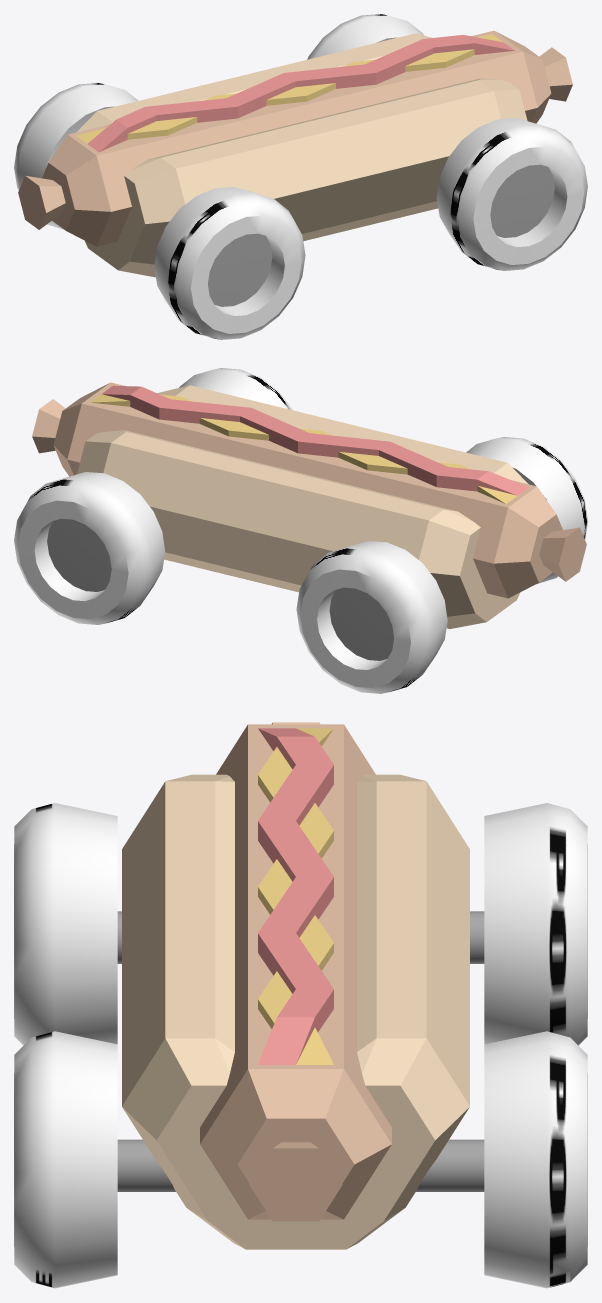
File: hot_dog.fbx
3 views of the same model, one above another, from view 1: azimuth 30°, elevation 25°; view 2: azimuth 150°, elevation 25°; view 3: azimuth 270°, elevation 25° (orthographic). The views are drawn at different scales.
Visible parts, largest first — view 1: polySurface74; view 2: polySurface74; view 3: polySurface74.
Part boxes in pixels (<box>): polySurface74: <box>14,14,587,339</box>; polySurface74: <box>14,368,587,693</box>; polySurface74: <box>14,722,587,1288</box>.
Size of the model in its own units: 302 by 92.82 by 172.
7 materials, 1 textured.
